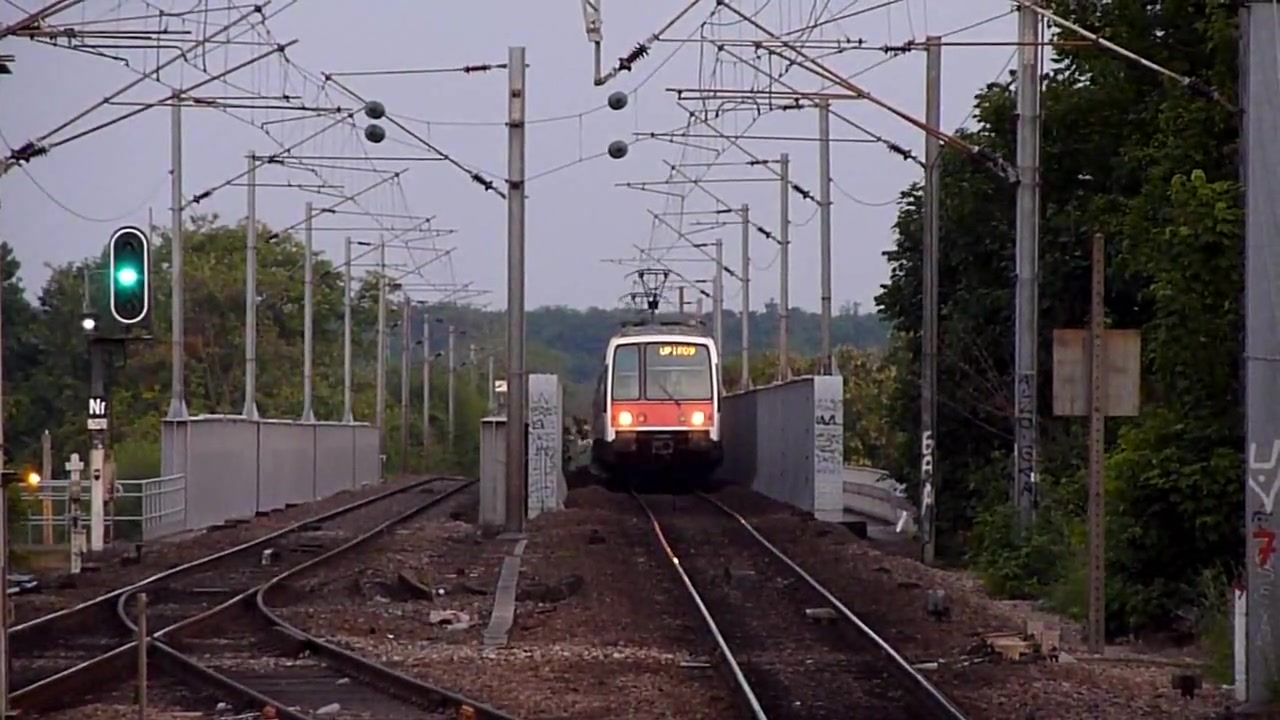train: (589, 319, 728, 487)
